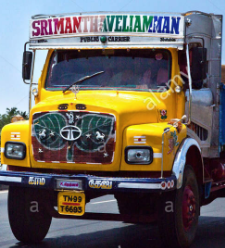truck: (1, 4, 224, 246)
